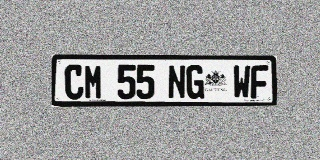5: (117, 65, 136, 99), (136, 65, 155, 99)
C: (64, 64, 83, 99)
F: (251, 65, 268, 99)
G: (186, 65, 204, 99)
M: (84, 64, 103, 99)
N: (168, 65, 186, 99)
W: (233, 65, 250, 99)
